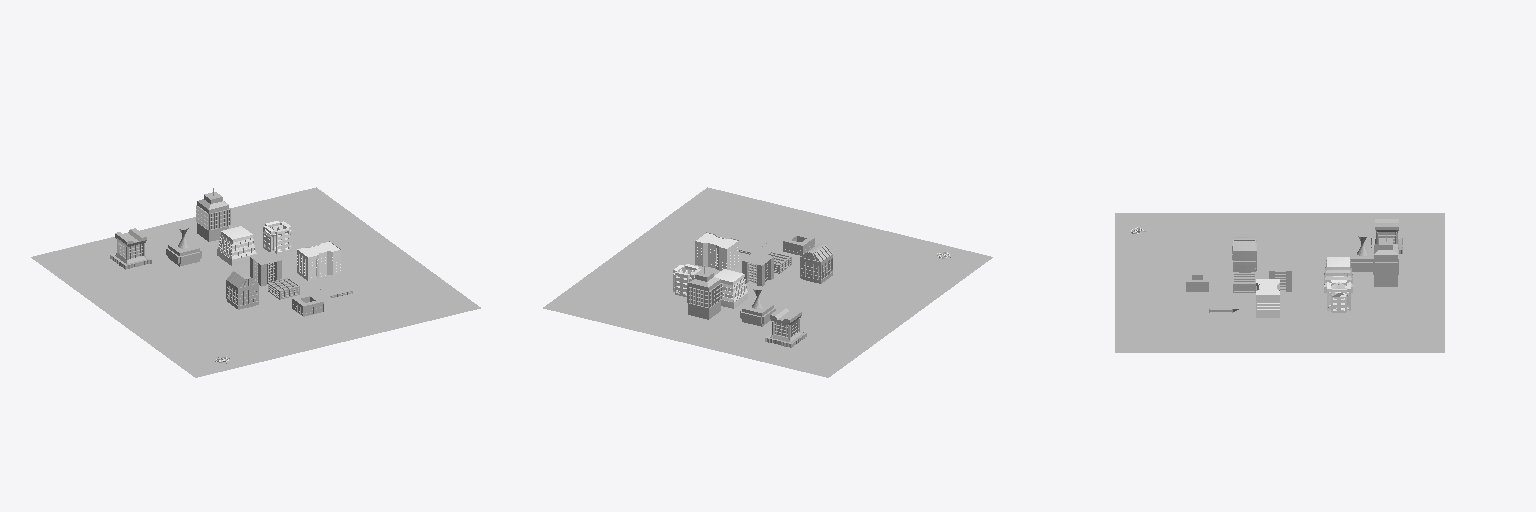
The model's file is Skycrapers.obj.
3 renders of one model, left to right at view 1: azimuth 30°, elevation 25°; view 2: azimuth 150°, elevation 25°; view 3: azimuth 270°, elevation 25°, orthographic.
Parts seen in each view (by area): view 1: Plane, Liège_Cube.011, Antwerp_Cube.001, Flemish_Flanders_Cube.004, West_Flanders_Cube.005, Hainaut_Cube.007, Brussels_Cube.009, Limburg_Cube.002, East_Flanders_Cube.003, Luxembourg_Cube.010, Namur_Cube.008; view 2: Plane, Antwerp_Cube.001, Liège_Cube.011, West_Flanders_Cube.005, Hainaut_Cube.007, Flemish_Flanders_Cube.004, Brussels_Cube.009, East_Flanders_Cube.003, Limburg_Cube.002, Namur_Cube.008; view 3: Plane, Antwerp_Cube.001, Liège_Cube.011, Hainaut_Cube.007, Limburg_Cube.002, Flemish_Flanders_Cube.004, Luxembourg_Cube.010, West_Flanders_Cube.005, East_Flanders_Cube.003, Brussels_Cube.009.
Part boxes in pixels (x1,y1,x2,y2): Plane: (31,187,480,377); Liège_Cube.011: (297,241,340,280); Antwerp_Cube.001: (196,188,230,241); Flemish_Flanders_Cube.004: (217,226,256,265); West_Flanders_Cube.005: (110,228,151,269); Hainaut_Cube.007: (226,269,258,309); Brussels_Cube.009: (250,252,281,286); Limburg_Cube.002: (263,221,292,253); East_Flanders_Cube.003: (166,225,201,266); Luxembourg_Cube.010: (312,275,361,297); Namur_Cube.008: (292,293,323,316); Plane: (543,187,992,377); Antwerp_Cube.001: (687,265,721,319); Liège_Cube.011: (695,232,738,270); West_Flanders_Cube.005: (765,307,806,347); Hainaut_Cube.007: (800,243,832,283); Flemish_Flanders_Cube.004: (714,269,747,308); Brussels_Cube.009: (742,252,773,286); East_Flanders_Cube.003: (740,286,775,326); Limburg_Cube.002: (673,264,700,296); Namur_Cube.008: (783,232,814,255); Plane: (1115,213,1444,352); Antwerp_Cube.001: (1373,234,1398,286); Liège_Cube.011: (1256,279,1279,317); Hainaut_Cube.007: (1232,237,1256,272); Limburg_Cube.002: (1327,280,1350,312); Flemish_Flanders_Cube.004: (1324,257,1352,292); Luxembourg_Cube.010: (1202,294,1239,312); West_Flanders_Cube.005: (1371,217,1402,253); East_Flanders_Cube.003: (1349,233,1372,271); Brussels_Cube.009: (1269,261,1291,291).
Bounding box in the file's own units: 14 × 2.51 × 14.